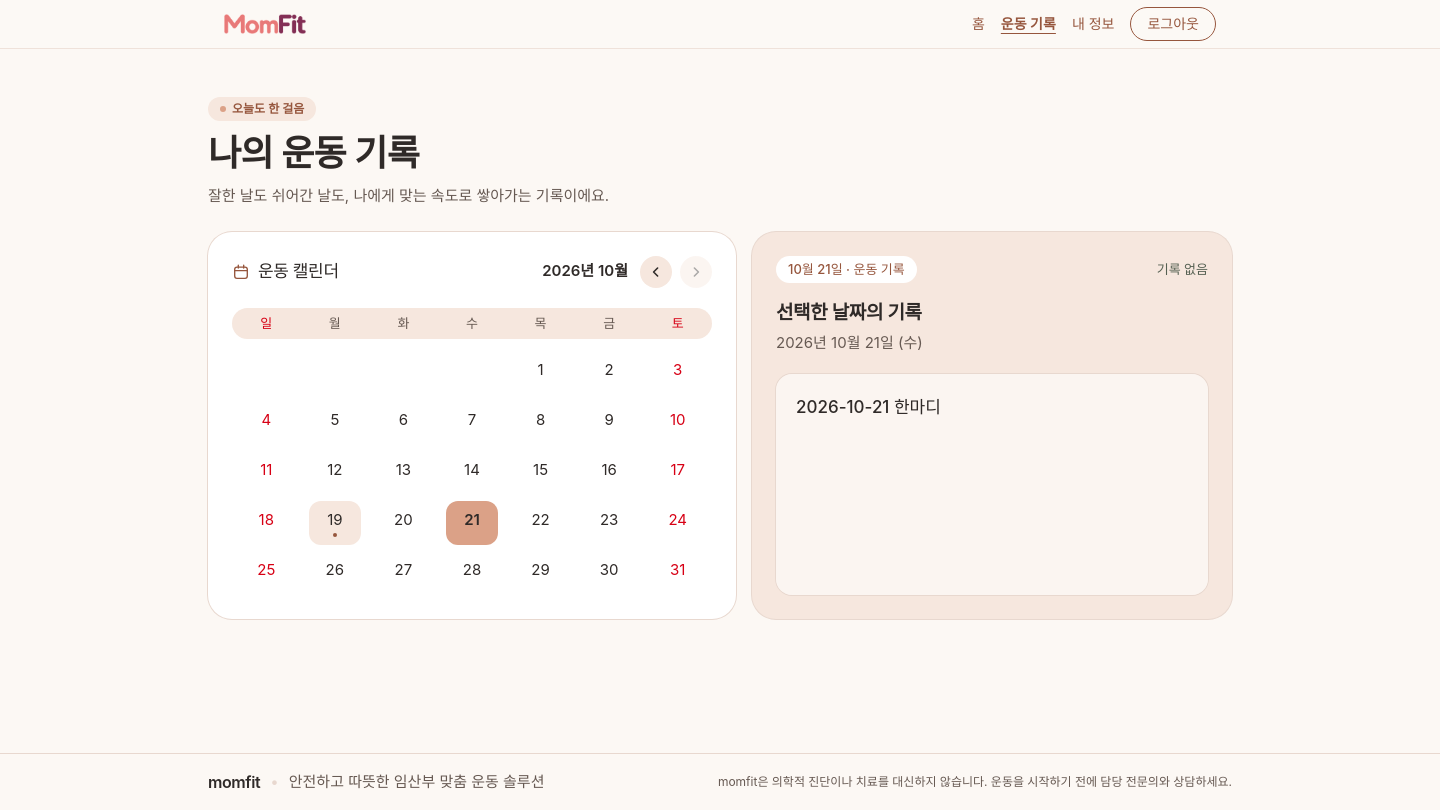
Test: RecordsPage › 날짜를 누르면 오른쪽 카드가 그 날짜로 바뀌고 기록 여부를 알려준다
Click the button named "10월 19일" at (335, 523), box [309,501,361,545]
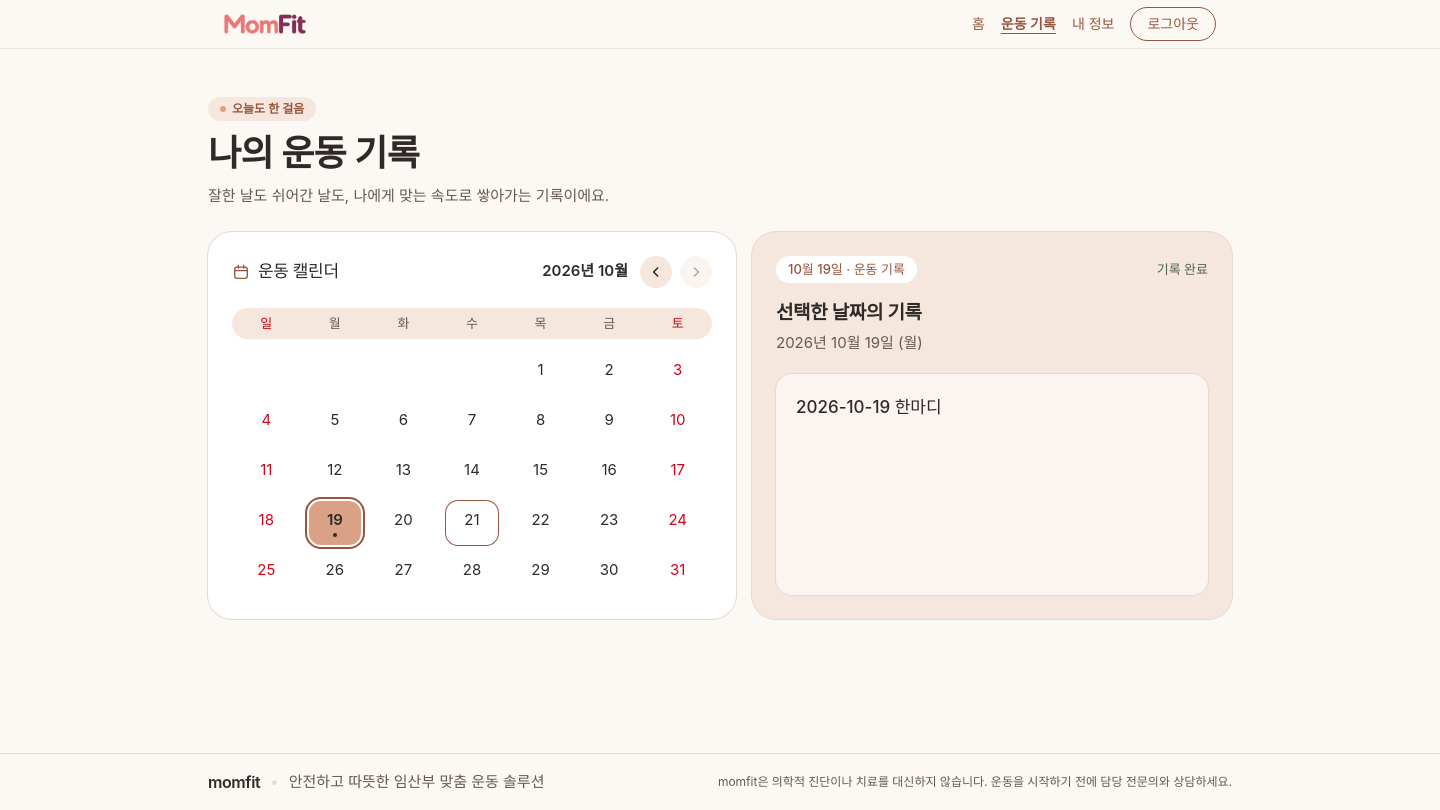
Expected: the element "선택한 날짜의 기록" shows "10월 19일 · 운동 기록", [752,232,1232,619]
Expected: the element "선택한 날짜의 기록" shows "2026년 10월 19일 (월)", [776,332,923,352]
Expected: the element "선택한 날짜의 기록" shows "기록 완료", [1157,260,1208,276]
Click the button named "10월 20일" at (403, 523), box [377,501,429,545]
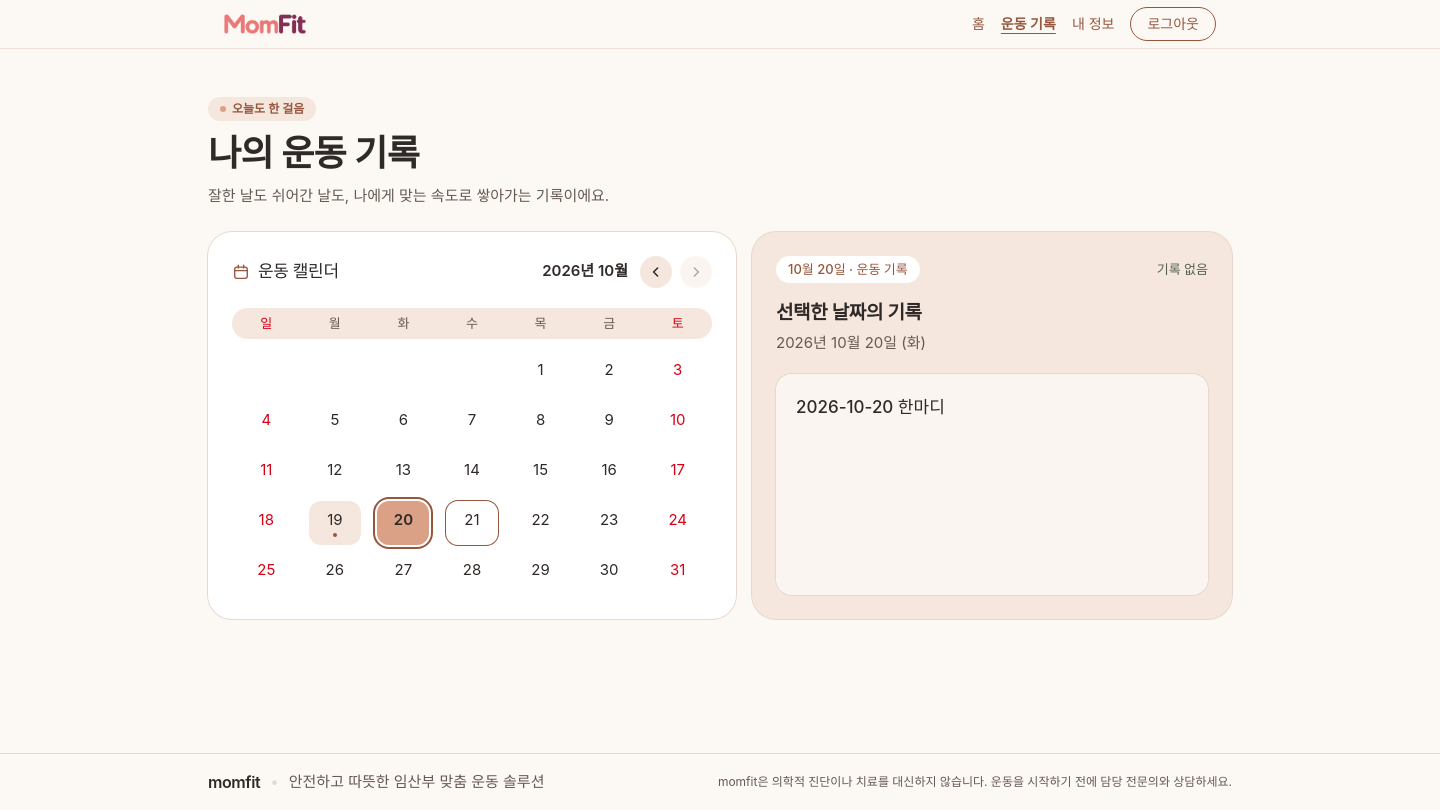
Expected: the element "선택한 날짜의 기록" shows "기록 없음", [1157,260,1208,276]
